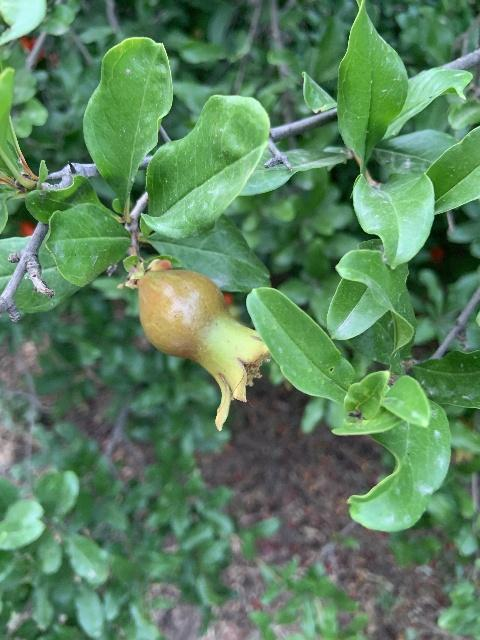early-fruit: (138, 269, 269, 431)
